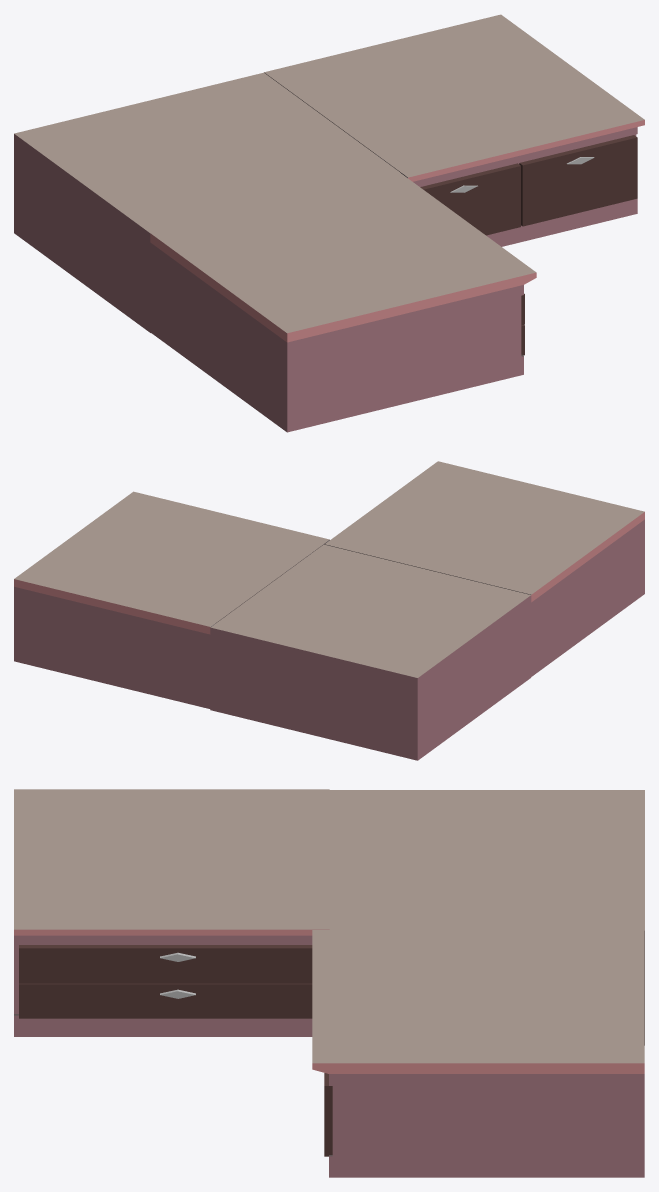
Rendered from Res01_KitchenCabinate3.fbx.
3 renders of one model, top to bottom at view 1: azimuth 30°, elevation 25°; view 2: azimuth 150°, elevation 25°; view 3: azimuth 270°, elevation 25°, orthographic. The views are drawn at different scales.
Visible parts, largest first — view 1: Res01_KitchenCabinate3; view 2: Res01_KitchenCabinate3; view 3: Res01_KitchenCabinate3.
Boxes of the visible parts, <box> form: Res01_KitchenCabinate3: <box>14,14,644,432</box>; Res01_KitchenCabinate3: <box>14,461,644,760</box>; Res01_KitchenCabinate3: <box>14,789,644,1177</box>.
Size of the model in its own units: 411 by 80.74 by 400.
